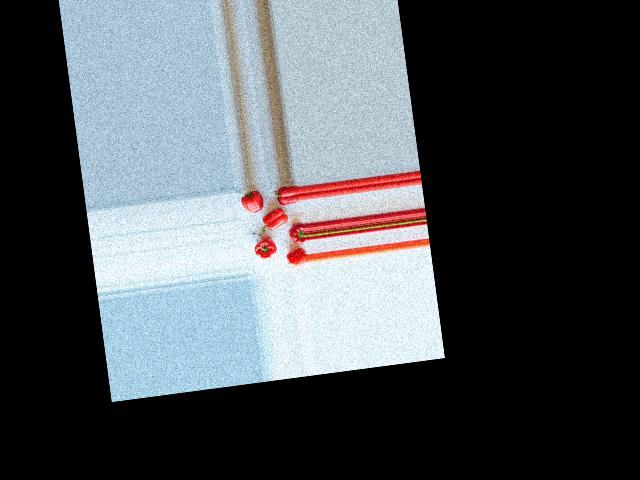bell_pepper: (286, 222, 305, 245)
